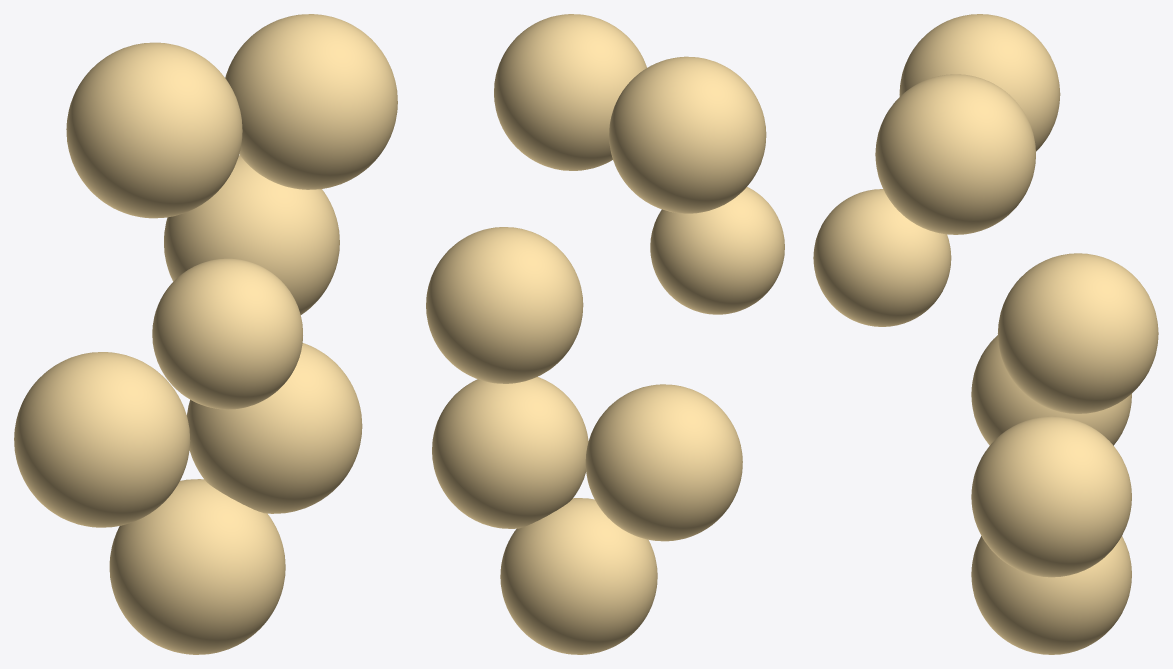
The model's file is enzyme_simple.fbx.
The picture shows the model from 3 angles, left to right: view 1: azimuth 30°, elevation 25°; view 2: azimuth 150°, elevation 25°; view 3: azimuth 270°, elevation 25°; orthographic projection. The views are drawn at different scales.
Parts seen in each view (by area): view 1: root (×7); view 2: root (×7); view 3: root (×7).
Part boxes in pixels (x1,y1,x2,y2): root (×7): (14, 14, 397, 654); root (×7): (426, 14, 784, 654); root (×7): (813, 14, 1158, 654).
Size of the model in its own units: 0.192 by 0.3664 by 0.1935.
